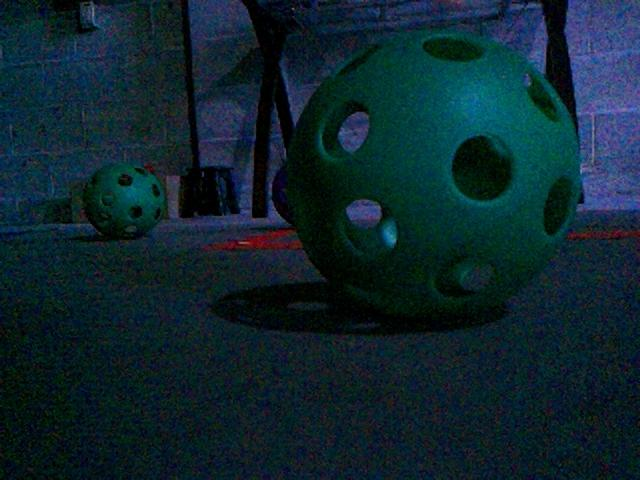Green: (285, 32, 580, 318), (83, 163, 164, 238)
Purple: (270, 162, 294, 225)
